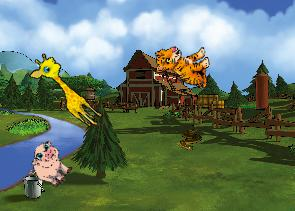giraffe: (24, 49, 112, 131)
pig: (22, 137, 78, 192)
tiger: (154, 42, 212, 92)
